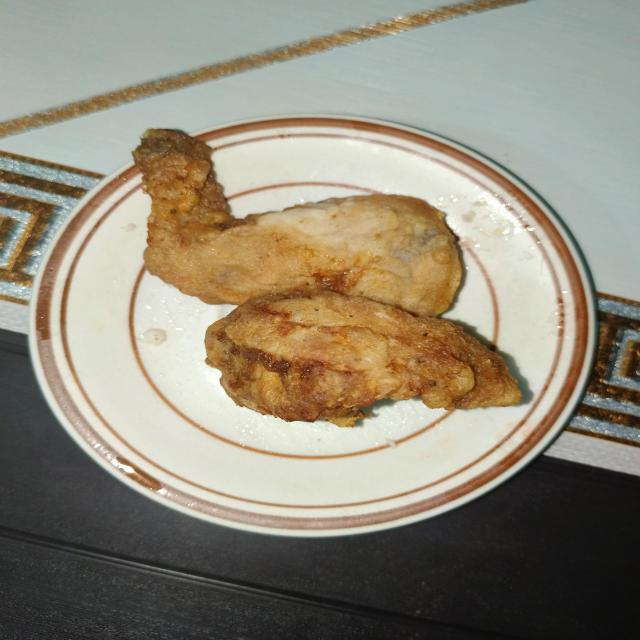Chicken -Fried Chicken-: (107, 130, 544, 448)
